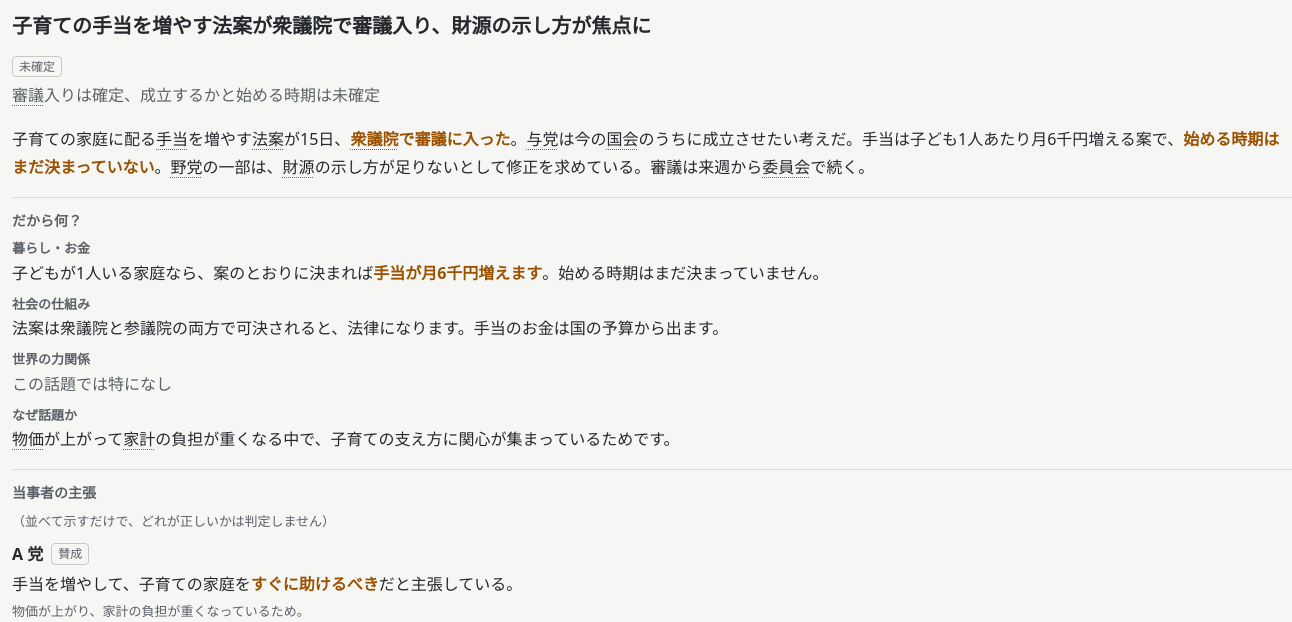
Test: 強調と用語の印（作者の答え A・■2 の A） › 印を押すと段落のすぐ下に説明の箱（1度に1つ）。もう一度押すか［×］で閉じ、フォーカスは語へ戻る
The width and height of the screenshot is (1292, 622).
Click the button with test id "term-mark" showing "審議" at point(28, 95), box [12,81,44,109]
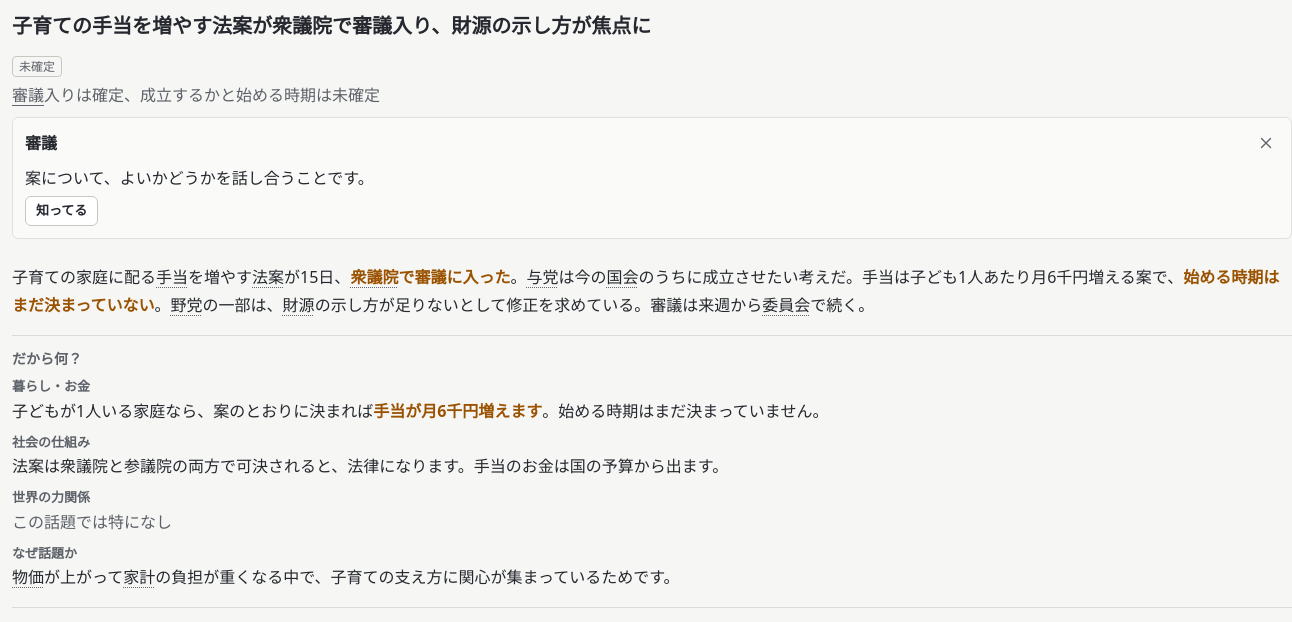
Now the element with test id "term-note" shows "案について、よいかどうかを話し合うことです。", box [25,167,374,189]
Click the button with test id "term-mark" showing "手当" at point(172, 277), box [156,263,188,291]
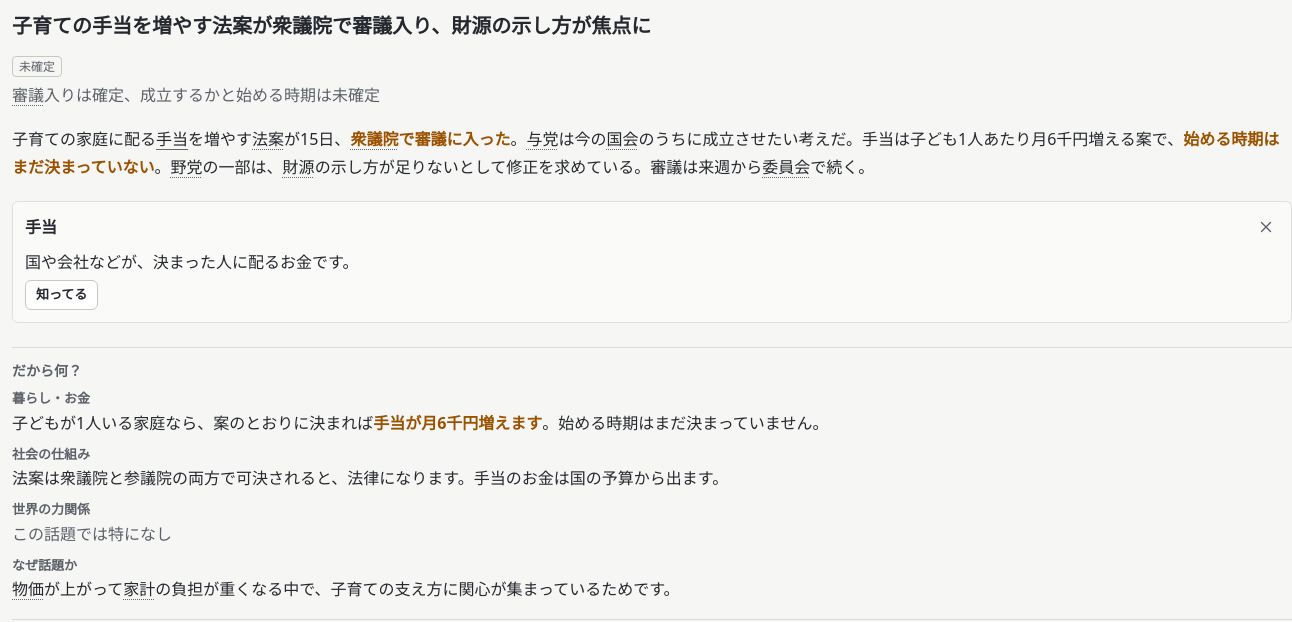
Click the button with test id "term-mark" showing "手当" at point(172, 139), box [156,125,188,153]
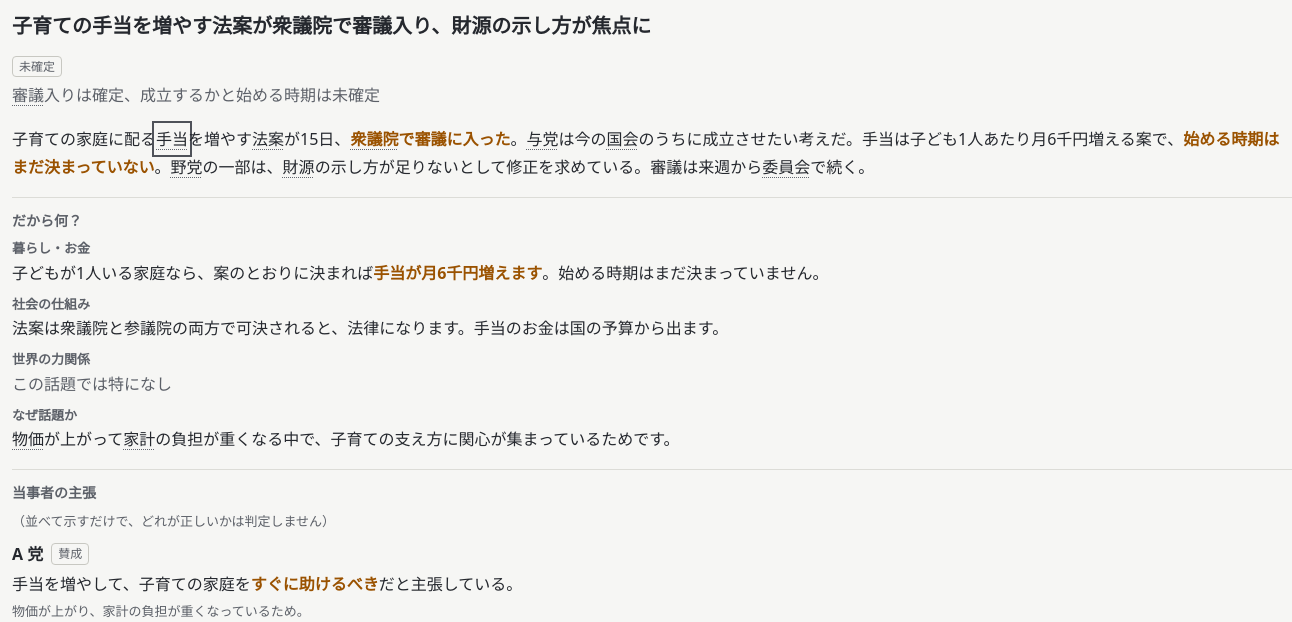
Now the element with test id "term-note" is gone
Click the button with test id "term-mark" showing "審議" at point(28, 95), box [12,81,44,109]
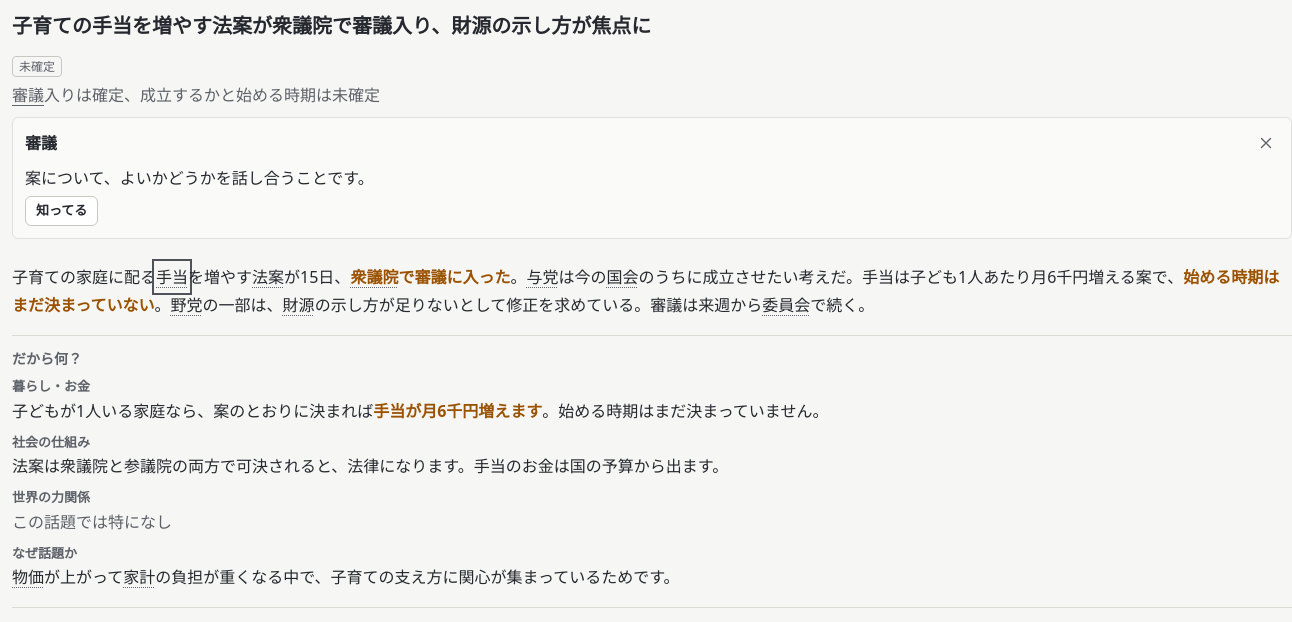
Click the button named "説明を閉じる" at point(1266, 143), box [1249,126,1283,160]
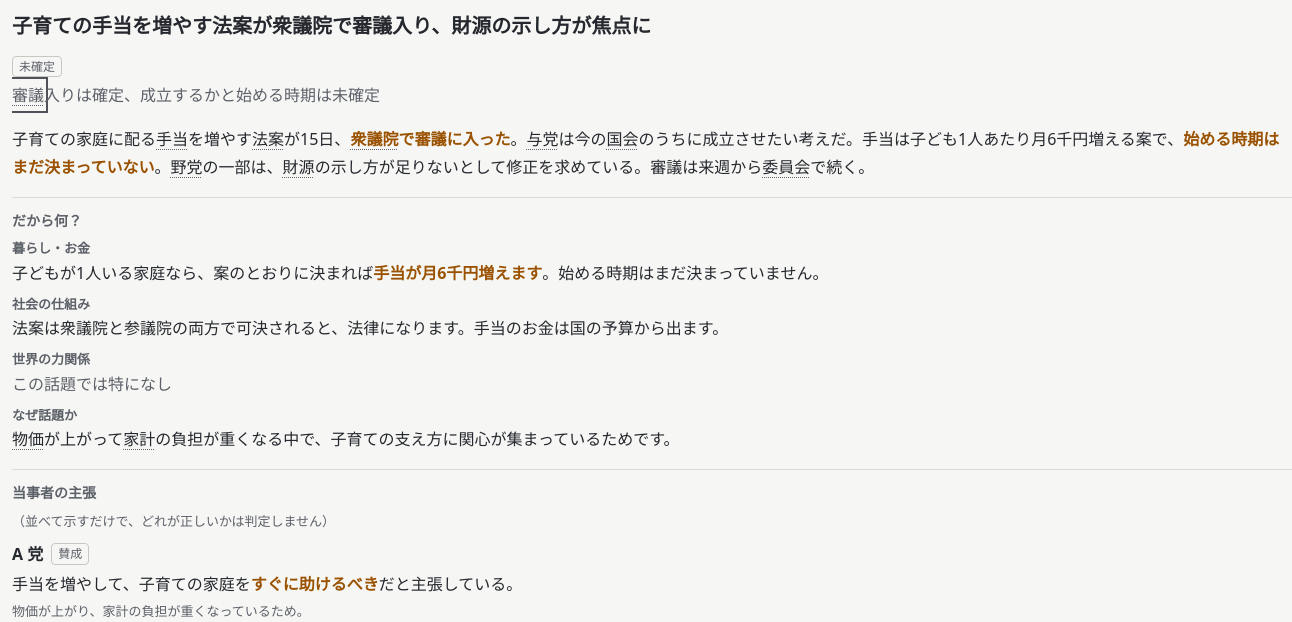
Now the element with test id "term-note" is gone
